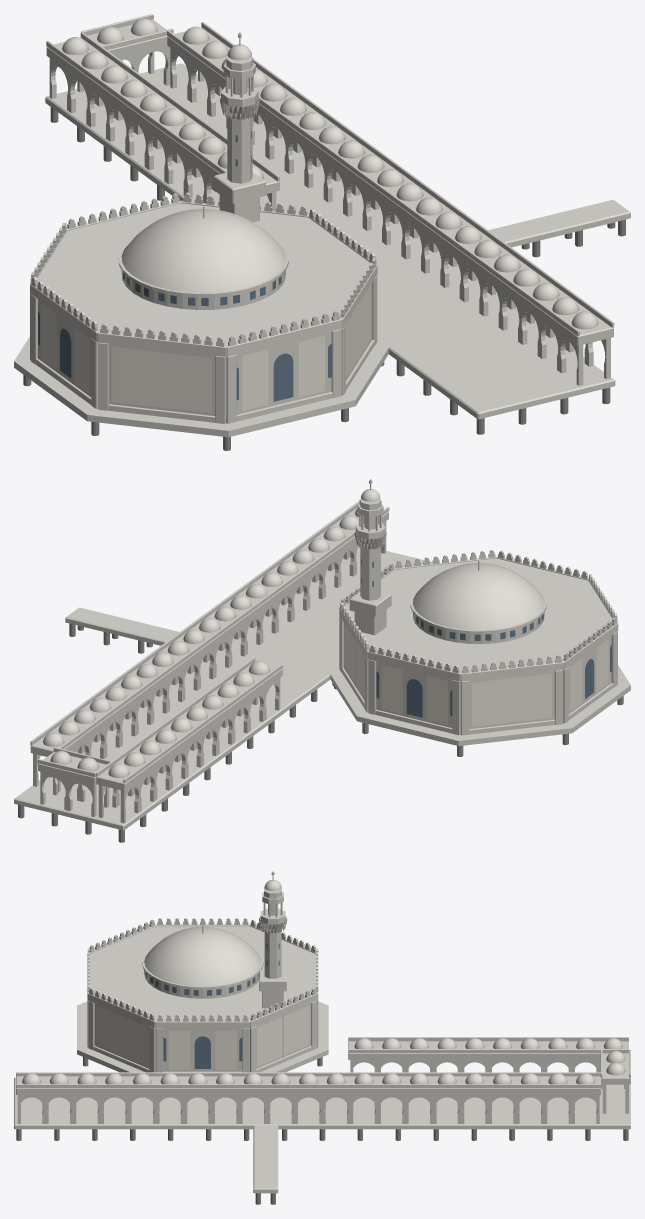
Rendered from jeddah-al-rahma-mosque.detail.glb.
The picture shows the model from 3 angles, top to bottom: view 1: azimuth 30°, elevation 25°; view 2: azimuth 150°, elevation 25°; view 3: azimuth 270°, elevation 25°; orthographic projection. The views are drawn at different scales.
Parts seen in each view (by area): view 1: Al-Rahma Mosque; view 2: Al-Rahma Mosque; view 3: Al-Rahma Mosque.
Part boxes in pixels (<box>): Al-Rahma Mosque: <box>14,14,630,450</box>; Al-Rahma Mosque: <box>14,479,630,842</box>; Al-Rahma Mosque: <box>14,871,630,1204</box>.
Size of the model in its own units: 80.5 by 35.6 by 98.
